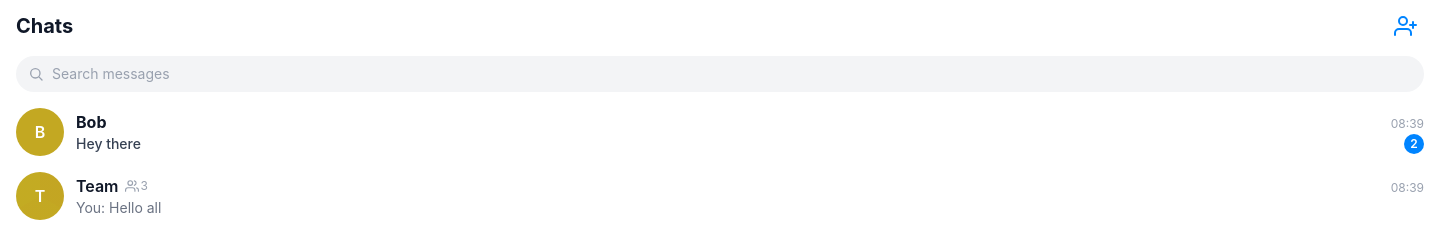
ChatListPage › message search › clearing the query restores the normal chat list
The width and height of the screenshot is (1440, 237).
Type "world" into the search field labelled "Search messages" at (720, 74), box [16, 56, 1424, 92]
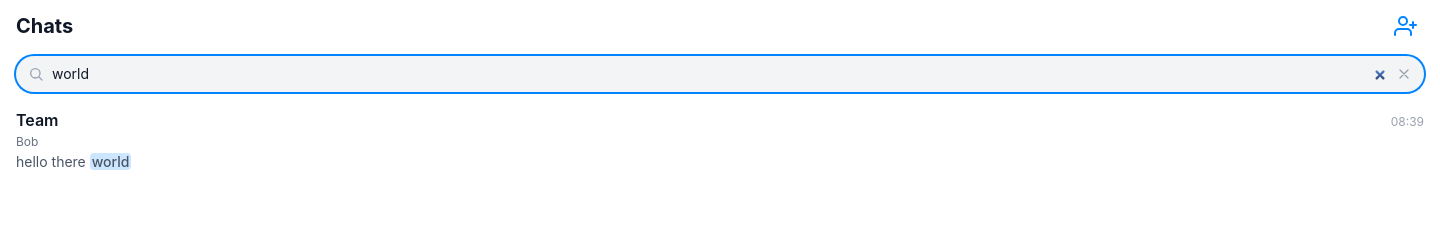
Expected: the text "Team" is shown, [16, 108, 58, 132]
Click the button named "Clear search" at (1404, 74), box [1392, 62, 1416, 86]
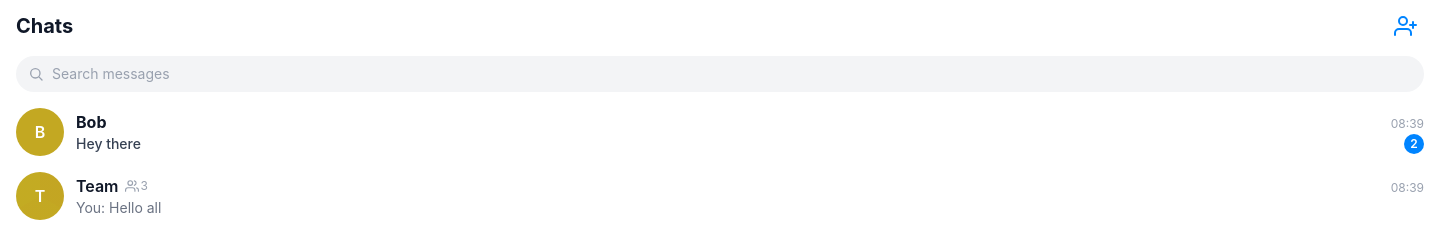
Now the text "Hey there" is shown, box [76, 134, 141, 154]
Now the link "hello there" is gone
